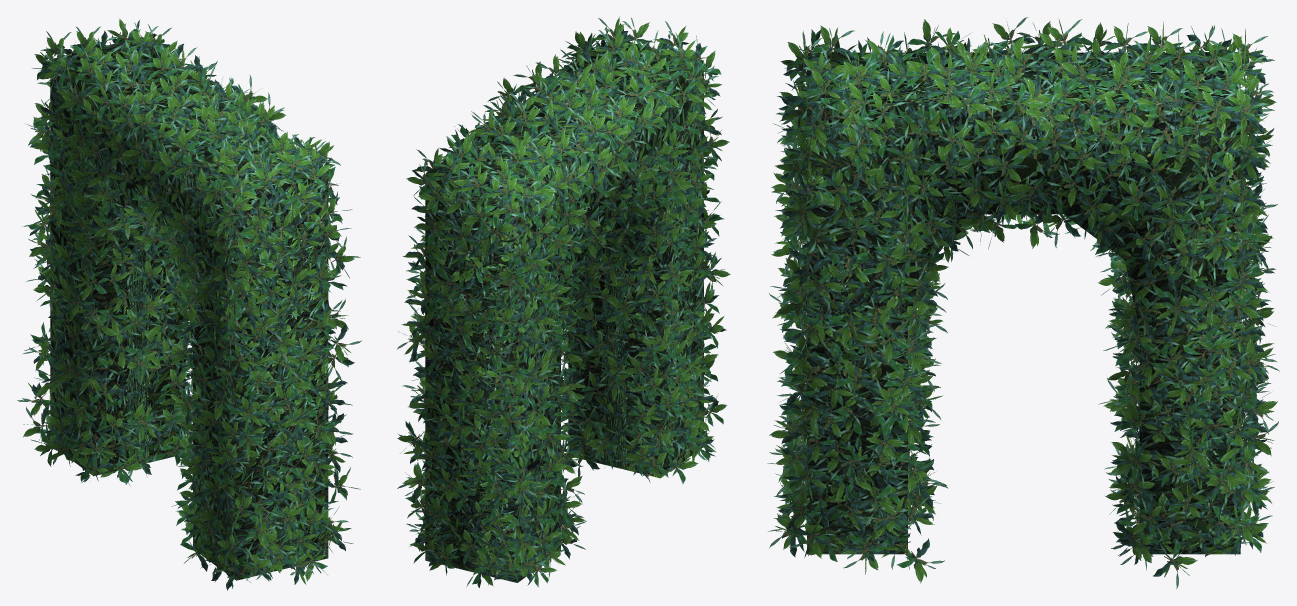
3 views of the same model, side by side, from view 1: azimuth 30°, elevation 25°; view 2: azimuth 150°, elevation 25°; view 3: azimuth 270°, elevation 25° (orthographic). The views are drawn at different scales.
Visible parts, largest first — view 1: HedgeArch_13 - Default_0; view 2: HedgeArch_13 - Default_0; view 3: HedgeArch_13 - Default_0.
Boxes of the visible parts, bbox=[...] form: HedgeArch_13 - Default_0: bbox=[17, 18, 361, 590]; HedgeArch_13 - Default_0: bbox=[397, 17, 730, 587]; HedgeArch_13 - Default_0: bbox=[767, 17, 1279, 588].
Bounding box in the file's own units: 1.41 × 3.85 × 3.48.
